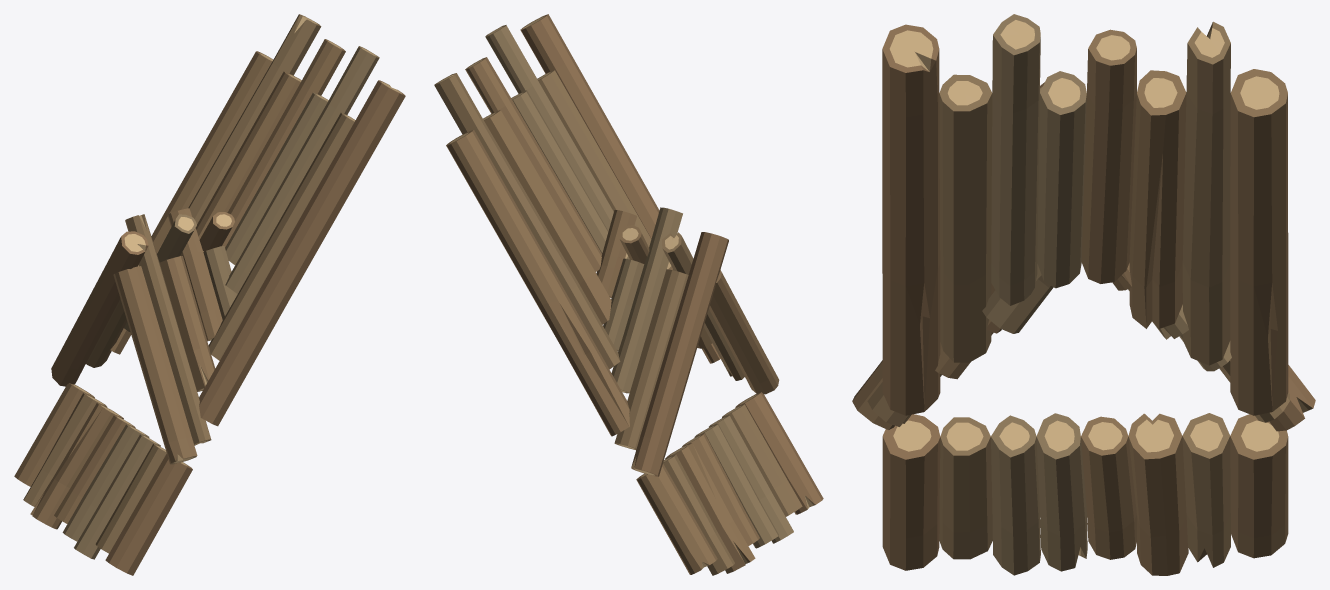
The model's file is rpgpp_ag_roof_01c_6x5x3_half.fbx.
3 views of the same model, side by side, from view 1: azimuth 30°, elevation 25°; view 2: azimuth 150°, elevation 25°; view 3: azimuth 270°, elevation 25° (orthographic). The views are drawn at different scales.
Parts seen in each view (by area): view 1: rpgpp_ag_roof_01c_6x5x3_half; view 2: rpgpp_ag_roof_01c_6x5x3_half; view 3: rpgpp_ag_roof_01c_6x5x3_half.
Part boxes in pixels (x1,y1,x2,y2): rpgpp_ag_roof_01c_6x5x3_half: [14, 14, 405, 575]; rpgpp_ag_roof_01c_6x5x3_half: [434, 14, 823, 575]; rpgpp_ag_roof_01c_6x5x3_half: [852, 14, 1315, 575].
Bounding box in the file's own units: 4.62 × 6.46 × 3.43.
